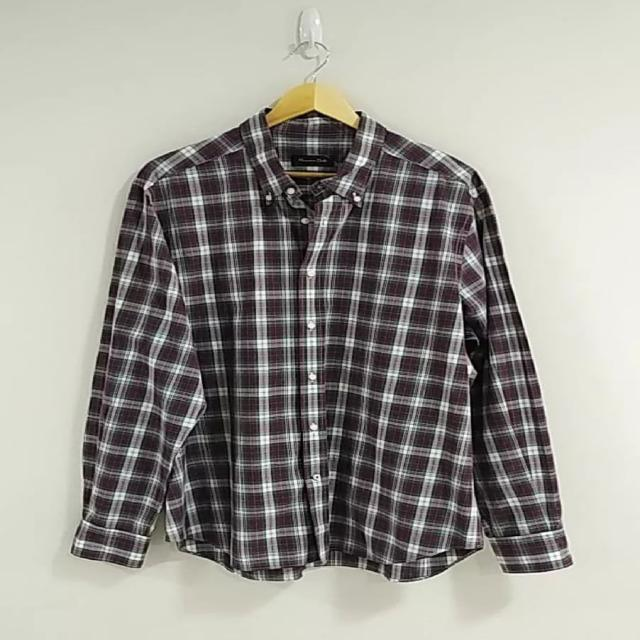long sleeve shirt: (69, 99, 576, 587)
